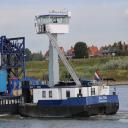tugboat: (18, 9, 121, 121)
